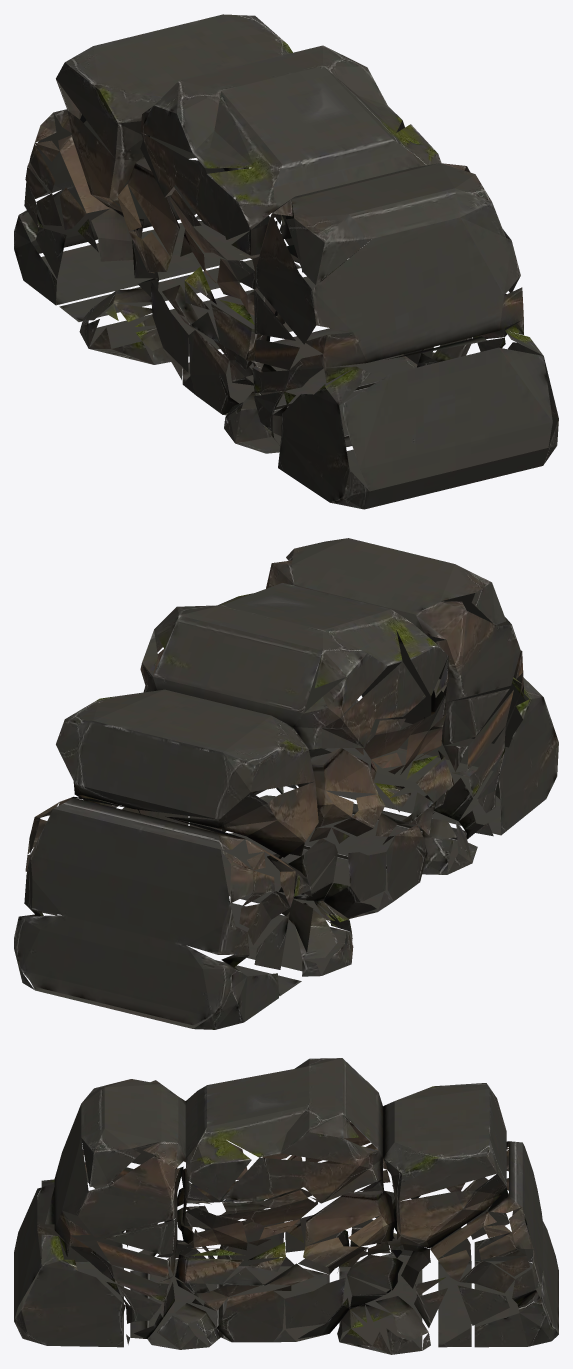
Rendered from rocks_large_LOD1.glb.
The picture shows the model from 3 angles, top to bottom: view 1: azimuth 30°, elevation 25°; view 2: azimuth 150°, elevation 25°; view 3: azimuth 270°, elevation 25°; orthographic projection. The views are drawn at different scales.
Visible parts, largest first — view 1: rocks_large_LOD1; view 2: rocks_large_LOD1; view 3: rocks_large_LOD1.
Part boxes in pixels (x1,y1,x2,y2): rocks_large_LOD1: (14, 14, 558, 509); rocks_large_LOD1: (14, 538, 558, 1029); rocks_large_LOD1: (14, 1058, 558, 1354).
Bounding box in the file's own units: 0.4403 × 0.4422 × 0.9999.
Materials: 1 (1 with a texture image).
